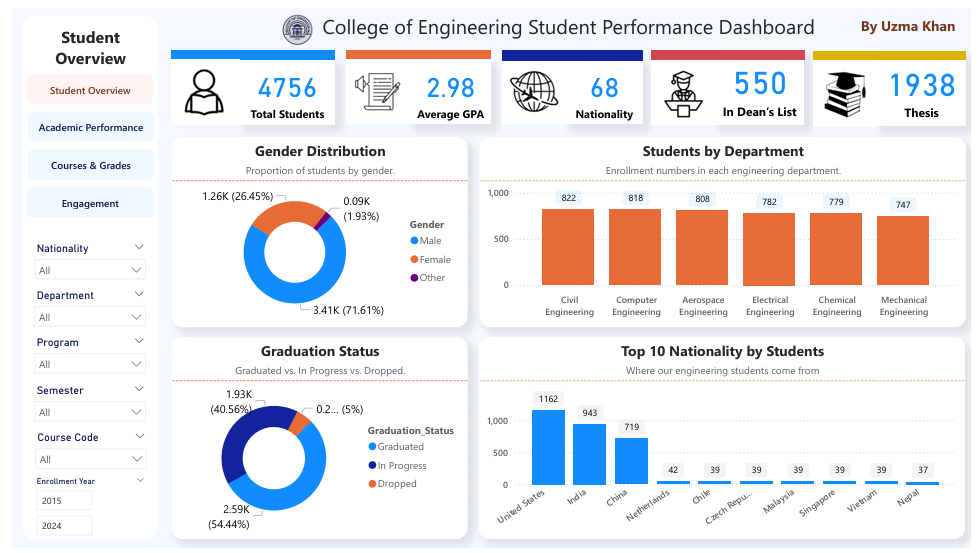

What the dashboard file says about the page in this screenshot:
{"tool":"powerbi","page":{"name":"Student Overview","canvas":[1280,720],"ordinal":1},"visuals":[{"type":"shape","box":[13.8,8.8,181.2,698.8],"z":0},{"type":"donutChart","title":"Graduation Status","fields":{"Category":["College_of_Engineering_Student_Dataset v2.Graduation_Status"],"Y":["CountNonNull(College_of_Engineering_Student_Dataset v2.Student_ID)"]},"box":[212.5,437.5,395,270],"z":1000},{"type":"card","fields":{"Values":["Count(College_of_Engineering_Student_Dataset v2.Student_ID)"]},"box":[304.2,67.5,126.7,87.5],"z":2000},{"type":"card","fields":{"Values":["Avg(College_of_Engineering_Student_Dataset v2.GPA_Current)"]},"box":[531.1,68.9,108.9,85.6],"z":3000},{"type":"card","fields":{"Values":["CountNonNull(College_of_Engineering_Student_Dataset v2.Dean_List_Flag)"]},"box":[937.8,55.4,120,100],"z":4000},{"type":"donutChart","title":"Gender Distribution","fields":{"Category":["College_of_Engineering_Student_Dataset v2.Gender"],"Y":["CountNonNull(College_of_Engineering_Student_Dataset v2.Student_ID)"]},"box":[212.5,171.2,395,253.8],"z":5000},{"type":"clusteredColumnChart","title":"Students by Department","fields":{"Category":["College_of_Engineering_Student_Dataset v2.Department"],"Y":["CountNonNull(College_of_Engineering_Student_Dataset v2.Student_ID)"]},"box":[623.8,171.2,648.8,253.8],"z":6000},{"type":"textbox","box":[212.5,0,1060,57.5],"z":7000},{"type":"image","box":[352.2,0,57.8,55.6],"z":8000},{"type":"shape","box":[212.5,55,218.3,12.5],"z":9000},{"type":"shape","box":[446.7,55.6,193.3,12.2],"z":10000},{"type":"shape","box":[853.3,55.4,204.4,12.2],"z":11000},{"type":"image","box":[212.5,67.5,91.7,87.5],"z":12000},{"type":"image","box":[446.9,69.2,83.8,85],"z":13000},{"type":"textbox","box":[26.7,17.8,156.7,95.6],"z":14000},{"type":"card","fields":{"Values":["Count(College_of_Engineering_Student_Dataset v2.Nationality)"]},"box":[738.8,68.9,103.3,85.6],"z":15000},{"type":"shape","box":[655.4,55.6,186.7,14.4],"z":16000},{"type":"image","box":[655,70.3,83.8,83.8],"z":17000},{"type":"image","box":[854.4,68.8,84.4,86.7],"z":18000},{"type":"card","fields":{"Values":["CountNonNull(College_of_Engineering_Student_Dataset v2.Thesis_Submitted)"]},"box":[1154.4,56.6,120,100],"z":19000},{"type":"shape","box":[1070,56.6,204.4,12.2],"z":20000},{"type":"image","box":[1070,70,84.4,86.7],"z":21000},{"type":"clusteredColumnChart","title":"Top 10 Nationality by Students","fields":{"Category":["College_of_Engineering_Student_Dataset v2.Nationality"],"Y":["CountNonNull(College_of_Engineering_Student_Dataset v2.Student_ID)"]},"box":[623.3,437.8,648.9,270],"z":22000},{"type":"actionButton","box":[20,86.7,168.9,40],"z":23000},{"type":"actionButton","box":[21.1,136.7,168.9,40],"z":24000},{"type":"actionButton","box":[21.1,187.8,168.9,40],"z":25000},{"type":"actionButton","box":[20,237.8,168.9,40],"z":26000},{"type":"slicer","fields":{"Values":["College_of_Engineering_Student_Dataset v2.Nationality"]},"box":[20,305.6,168.9,63.3],"z":27000},{"type":"slicer","fields":{"Values":["College_of_Engineering_Student_Dataset v2.Department"]},"box":[20,368.9,168.9,63.3],"z":28000},{"type":"slicer","fields":{"Values":["College_of_Engineering_Student_Dataset v2.Program"]},"box":[20,432.2,168.9,63.3],"z":29000},{"type":"slicer","fields":{"Values":["College_of_Engineering_Student_Dataset v2.Semester"]},"box":[20,495.6,168.9,63.3],"z":30000},{"type":"slicer","fields":{"Values":["College_of_Engineering_Student_Dataset v2.Course_Code"]},"box":[21.1,558.9,168.9,64.4],"z":31000},{"type":"slicer","fields":{"Values":["College_of_Engineering_Student_Dataset v2.Enrollment_Year"]},"box":[20,618.9,168.9,84.4],"z":32000},{"type":"textbox","box":[1117.8,4.4,156.7,47.8],"z":32001}]}

Visuals, with their boxes in screenshot pixels (x1, y1, x2, y2), scaled from the page's 1280x720 canvas onto the 979x553 screenshot:
shape: {"x1": 11, "y1": 7, "x2": 149, "y2": 543}
"Graduation Status" donutChart: {"x1": 163, "y1": 336, "x2": 465, "y2": 543}
card - Count(College_of_Engineering_Student_Dataset v2.Student_ID): {"x1": 233, "y1": 52, "x2": 330, "y2": 119}
card - Avg(College_of_Engineering_Student_Dataset v2.GPA_Current): {"x1": 406, "y1": 53, "x2": 490, "y2": 119}
card - CountNonNull(College_of_Engineering_Student_Dataset v2.Dean_List_Flag): {"x1": 717, "y1": 43, "x2": 809, "y2": 119}
"Gender Distribution" donutChart: {"x1": 163, "y1": 131, "x2": 465, "y2": 326}
"Students by Department" clusteredColumnChart: {"x1": 477, "y1": 131, "x2": 973, "y2": 326}
textbox: {"x1": 163, "y1": 0, "x2": 973, "y2": 44}
image: {"x1": 269, "y1": 0, "x2": 314, "y2": 43}
shape: {"x1": 163, "y1": 42, "x2": 329, "y2": 52}
shape: {"x1": 342, "y1": 43, "x2": 490, "y2": 52}
shape: {"x1": 653, "y1": 43, "x2": 809, "y2": 52}
image: {"x1": 163, "y1": 52, "x2": 233, "y2": 119}
image: {"x1": 342, "y1": 53, "x2": 406, "y2": 118}
textbox: {"x1": 20, "y1": 14, "x2": 140, "y2": 87}
card - Count(College_of_Engineering_Student_Dataset v2.Nationality): {"x1": 565, "y1": 53, "x2": 644, "y2": 119}
shape: {"x1": 501, "y1": 43, "x2": 644, "y2": 54}
image: {"x1": 501, "y1": 54, "x2": 565, "y2": 118}
image: {"x1": 653, "y1": 53, "x2": 718, "y2": 119}
card - CountNonNull(College_of_Engineering_Student_Dataset v2.Thesis_Submitted): {"x1": 883, "y1": 43, "x2": 975, "y2": 120}
shape: {"x1": 818, "y1": 43, "x2": 975, "y2": 53}
image: {"x1": 818, "y1": 54, "x2": 883, "y2": 120}
"Top 10 Nationality by Students" clusteredColumnChart: {"x1": 477, "y1": 336, "x2": 973, "y2": 544}
actionButton: {"x1": 15, "y1": 67, "x2": 144, "y2": 97}
actionButton: {"x1": 16, "y1": 105, "x2": 145, "y2": 136}
actionButton: {"x1": 16, "y1": 144, "x2": 145, "y2": 175}
actionButton: {"x1": 15, "y1": 183, "x2": 144, "y2": 213}
slicer - College_of_Engineering_Student_Dataset v2.Nationality: {"x1": 15, "y1": 235, "x2": 144, "y2": 283}
slicer - College_of_Engineering_Student_Dataset v2.Department: {"x1": 15, "y1": 283, "x2": 144, "y2": 332}
slicer - College_of_Engineering_Student_Dataset v2.Program: {"x1": 15, "y1": 332, "x2": 144, "y2": 381}
slicer - College_of_Engineering_Student_Dataset v2.Semester: {"x1": 15, "y1": 381, "x2": 144, "y2": 429}
slicer - College_of_Engineering_Student_Dataset v2.Course_Code: {"x1": 16, "y1": 429, "x2": 145, "y2": 479}
slicer - College_of_Engineering_Student_Dataset v2.Enrollment_Year: {"x1": 15, "y1": 475, "x2": 144, "y2": 540}
textbox: {"x1": 855, "y1": 3, "x2": 975, "y2": 40}
